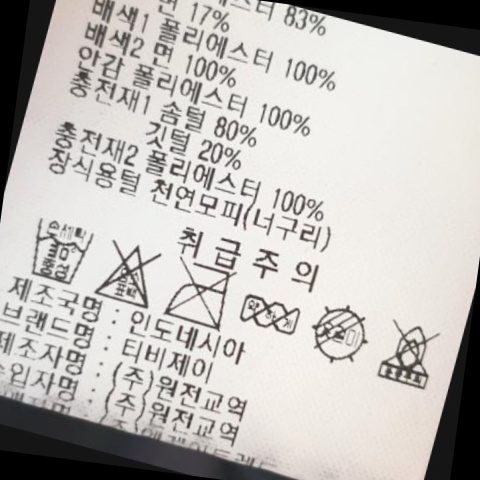DN_iron: (159, 255, 240, 336)
hand_wash: (23, 211, 102, 293)
line_dry_in_shade: (306, 297, 380, 373)
non_chlorine_bleach: (92, 227, 174, 314)
wring: (236, 287, 311, 342)
